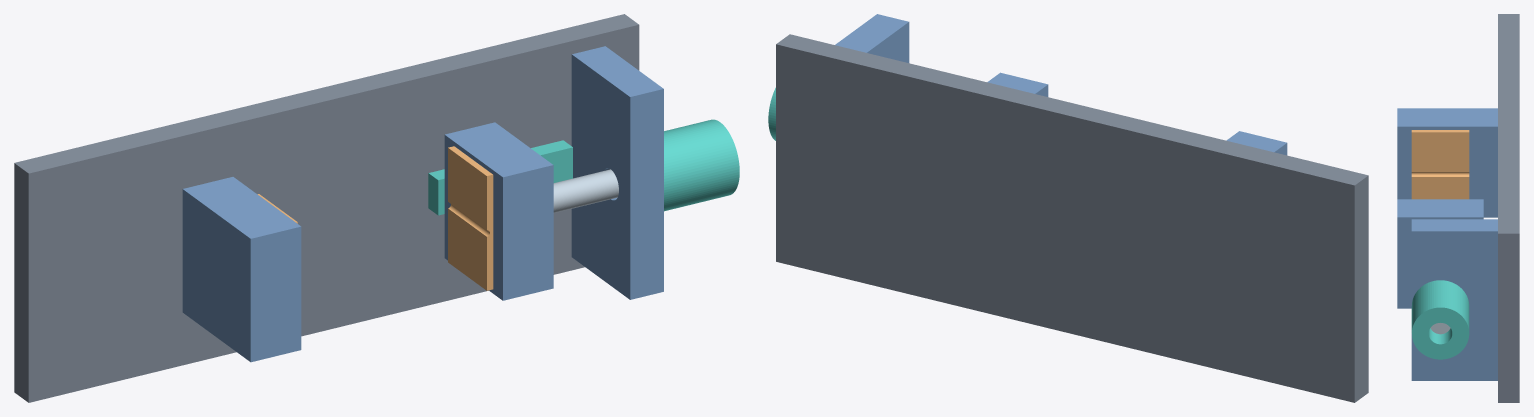
File: assembly.glb
3 renders of one model, left to right at view 1: azimuth 30°, elevation 25°; view 2: azimuth 150°, elevation 25°; view 3: azimuth 270°, elevation 25°, orthographic. The views are drawn at different scales.
Parts seen in each view (by area): view 1: base, actuator_support, fixed_jaw, moving_jaw, actuator_body, moving_pad, rod, rail_central; view 2: base, actuator_support, fixed_jaw, moving_jaw; view 3: actuator_support, base, fixed_jaw, fixed_pad, actuator_body, moving_jaw, rod.
Boxes of the visible parts, <box> form: base: <box>14,14,639,402</box>; actuator_support: <box>571,46,663,299</box>; fixed_jaw: <box>182,177,301,362</box>; moving_jaw: <box>444,122,553,300</box>; actuator_body: <box>664,119,739,211</box>; moving_pad: <box>448,146,493,290</box>; rod: <box>553,169,618,212</box>; rail_central: <box>428,140,572,215</box>; base: <box>776,34,1368,402</box>; actuator_support: <box>835,14,909,62</box>; fixed_jaw: <box>1226,131,1287,155</box>; moving_jaw: <box>987,72,1048,96</box>; actuator_support: <box>1411,219,1497,380</box>; base: <box>1498,14,1519,402</box>; fixed_jaw: <box>1397,108,1497,217</box>; fixed_pad: <box>1411,130,1469,199</box>; actuator_body: <box>1411,280,1469,359</box>; moving_jaw: <box>1397,199,1483,308</box>; rod: <box>1430,323,1450,334</box>.
Bounding box in the file's own units: 0.1548 × 0.052 × 0.034.
